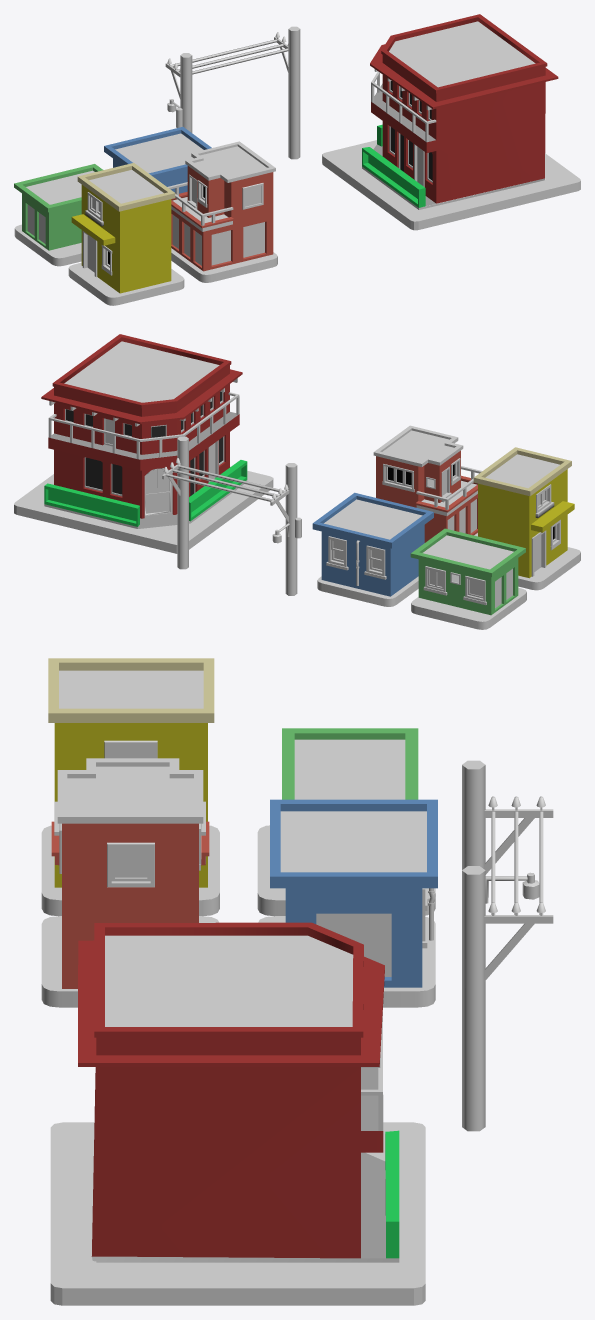
The model's file is chop_suey_m.fbx.
3 renders of one model, top to bottom at view 1: azimuth 30°, elevation 25°; view 2: azimuth 150°, elevation 25°; view 3: azimuth 270°, elevation 25°, orthographic. The views are drawn at different scales.
Parts seen in each view (by area): view 1: chop_suey_m; view 2: chop_suey_m; view 3: chop_suey_m.
Boxes of the visible parts, box(x1,y1,x2,y2) form: chop_suey_m: box(14, 14, 580, 305); chop_suey_m: box(14, 334, 580, 629); chop_suey_m: box(41, 658, 553, 1305).
Bounding box in the file's own units: 3095 × 795 × 1436.
